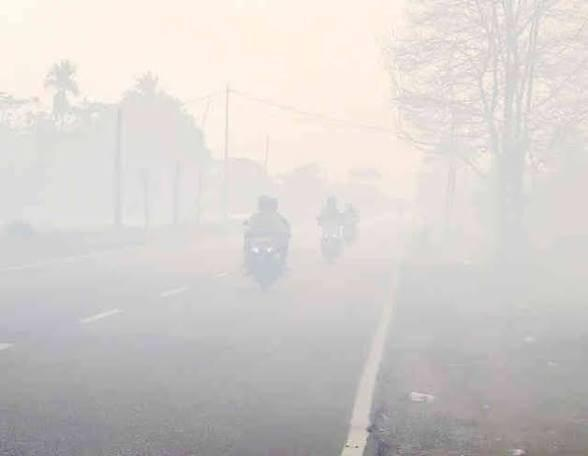Deteksi-Objek-Citra-Berasap: (0, 0, 588, 456)
Kendaraan: (242, 224, 291, 290), (316, 222, 346, 265)
Manusia: (243, 194, 291, 251), (316, 194, 346, 237)
Vegetasi: (385, 0, 588, 269), (0, 58, 211, 235)
